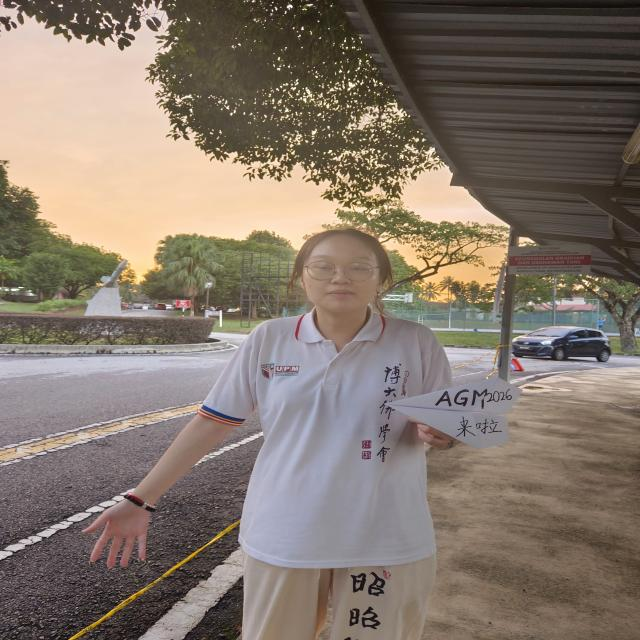person_without_labcoat: (137, 229, 453, 640)
